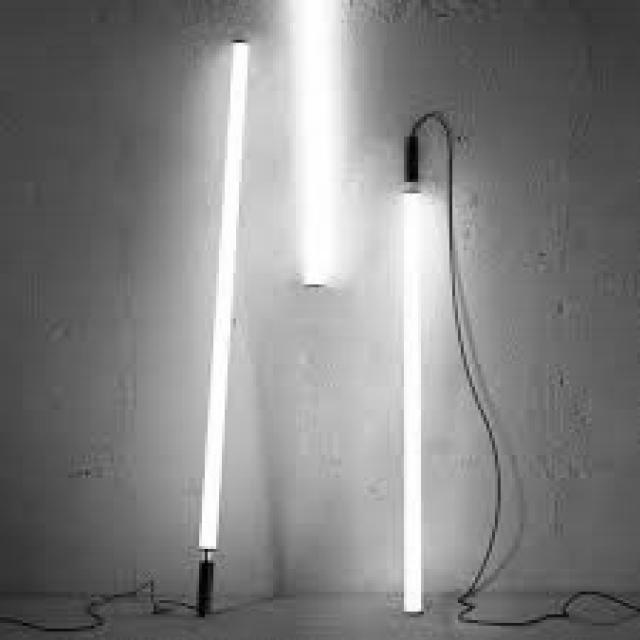light: (196, 39, 249, 551), (393, 183, 432, 620), (289, 0, 344, 287)
